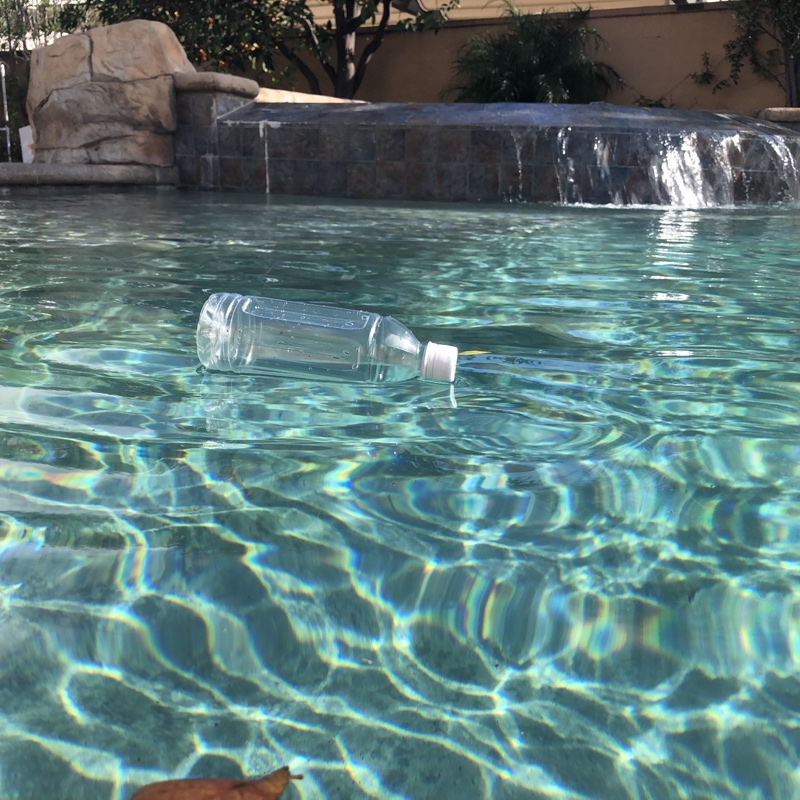Plastic Bottle: (192, 280, 462, 395)
